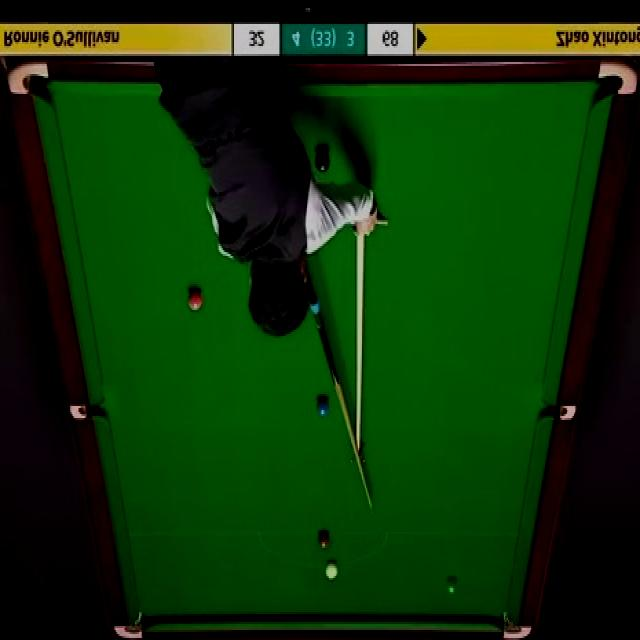pocket: (596, 58, 637, 97), (7, 60, 49, 92), (112, 606, 145, 640), (499, 608, 530, 640), (539, 400, 576, 422), (67, 405, 105, 420)
